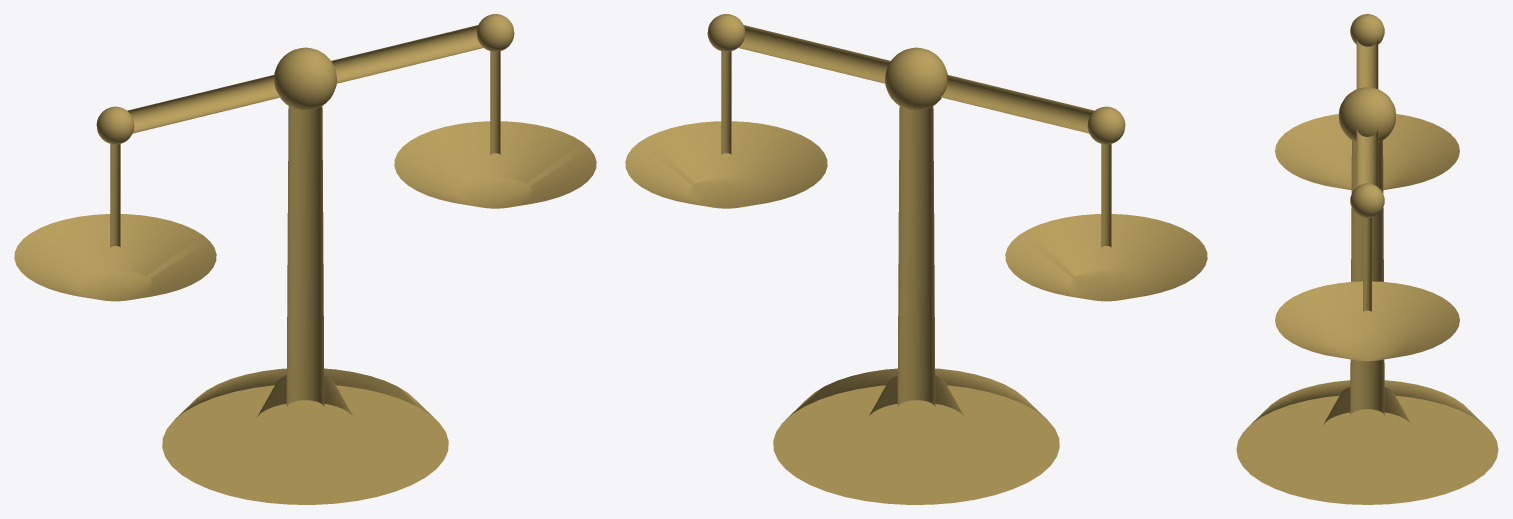
Rendered from economics.glb.
3 renders of one model, left to right at view 1: azimuth 30°, elevation 25°; view 2: azimuth 150°, elevation 25°; view 3: azimuth 270°, elevation 25°, orthographic. The views are drawn at different scales.
Parts seen in each view (by area): view 1: economics; view 2: economics; view 3: economics.
Boxes of the visible parts, x1=… form: economics: x1=14, y1=14, x2=596, y2=504; economics: x1=625, y1=14, x2=1207, y2=504; economics: x1=1236, y1=14, x2=1498, y2=504.
Size of the model in its own units: 1 by 0.6776 by 0.4473.
